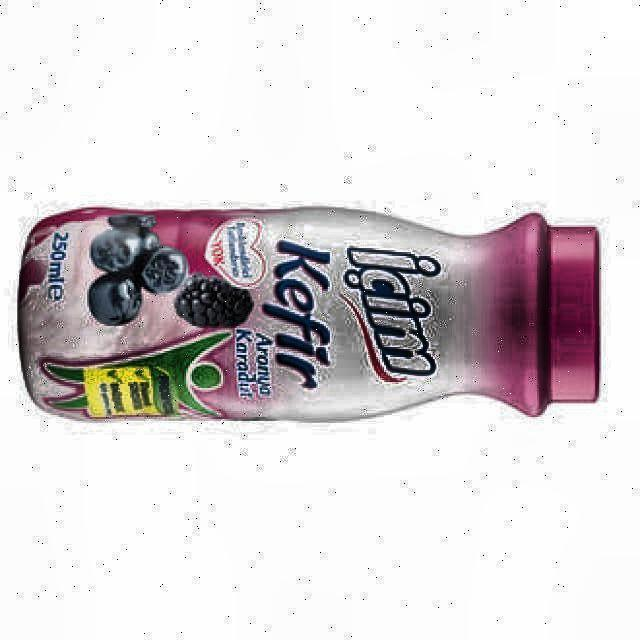plastic: (19, 208, 598, 419)
